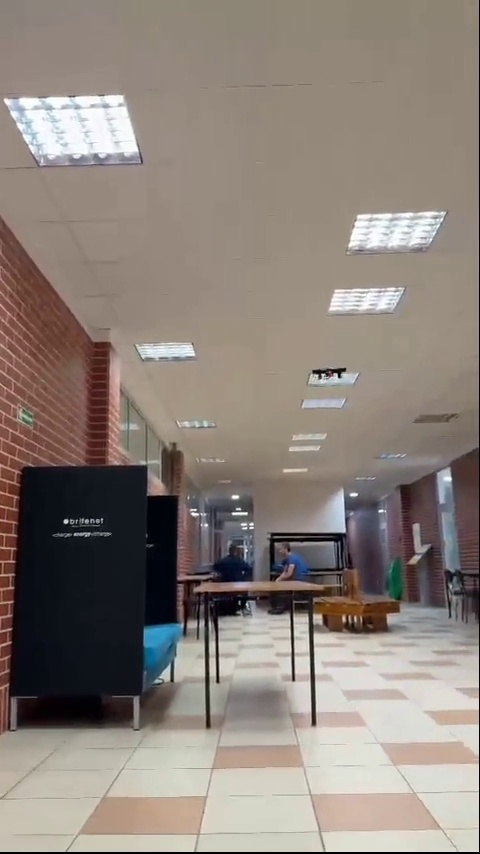drone: (317, 364, 346, 381)
no vest: (268, 539, 313, 586), (221, 539, 254, 578)
